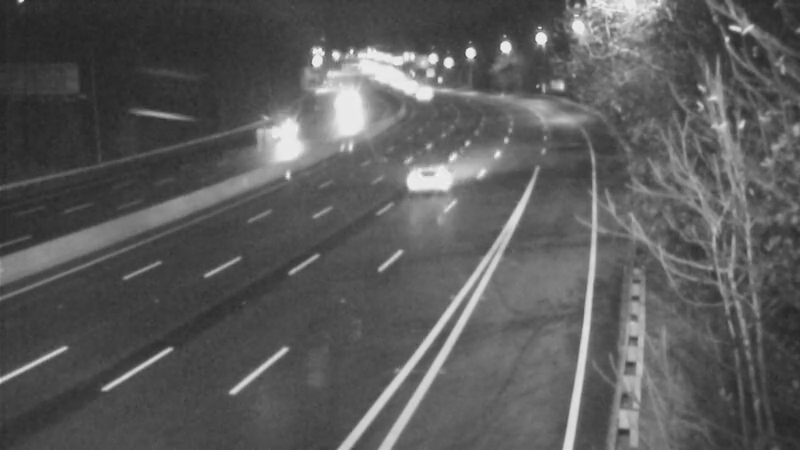vehicle: (385, 144, 465, 224), (400, 68, 450, 118), (249, 113, 299, 163), (324, 86, 374, 136)
